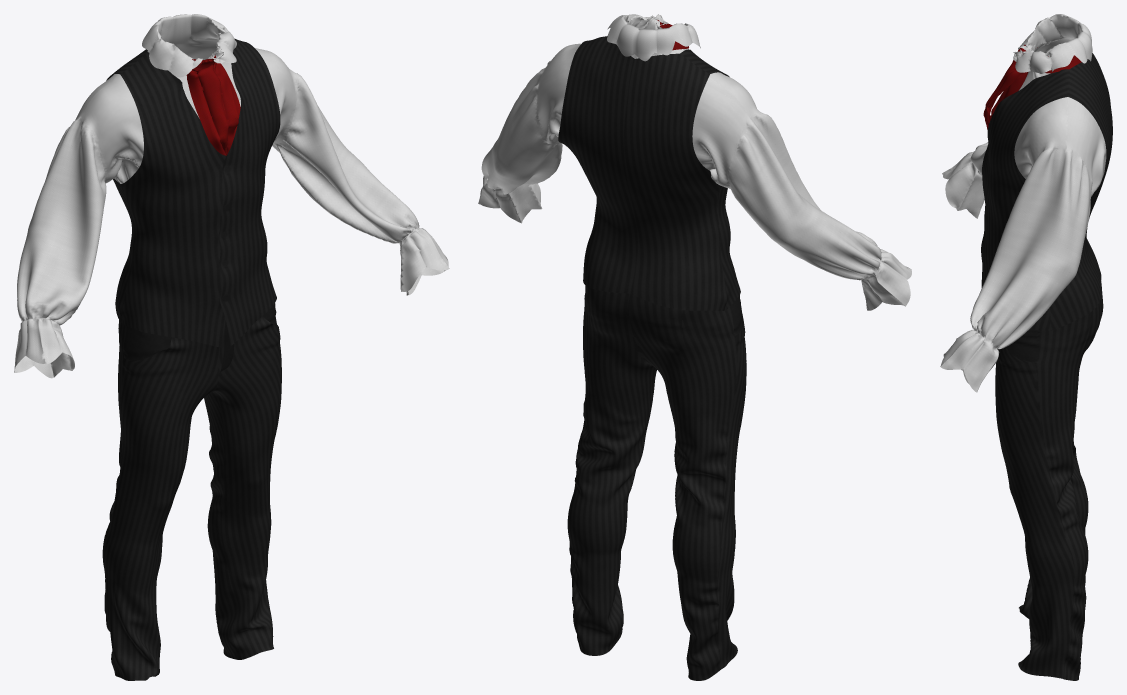
File: a_set_of_victorian_clothes.glb
3 renders of one model, left to right at view 1: azimuth 30°, elevation 25°; view 2: azimuth 150°, elevation 25°; view 3: azimuth 270°, elevation 25°, orthographic. The views are drawn at different scales.
Parts seen in each view (by area): view 1: aristo; view 2: aristo; view 3: aristo.
Part boxes in pixels (x1,y1,x2,y2): aristo: (14,14,449,680); aristo: (478,14,911,680); aristo: (940,14,1112,680).
Size of the model in its own units: 1.07 by 1.53 by 0.3813.
1 material, 1 textured.
